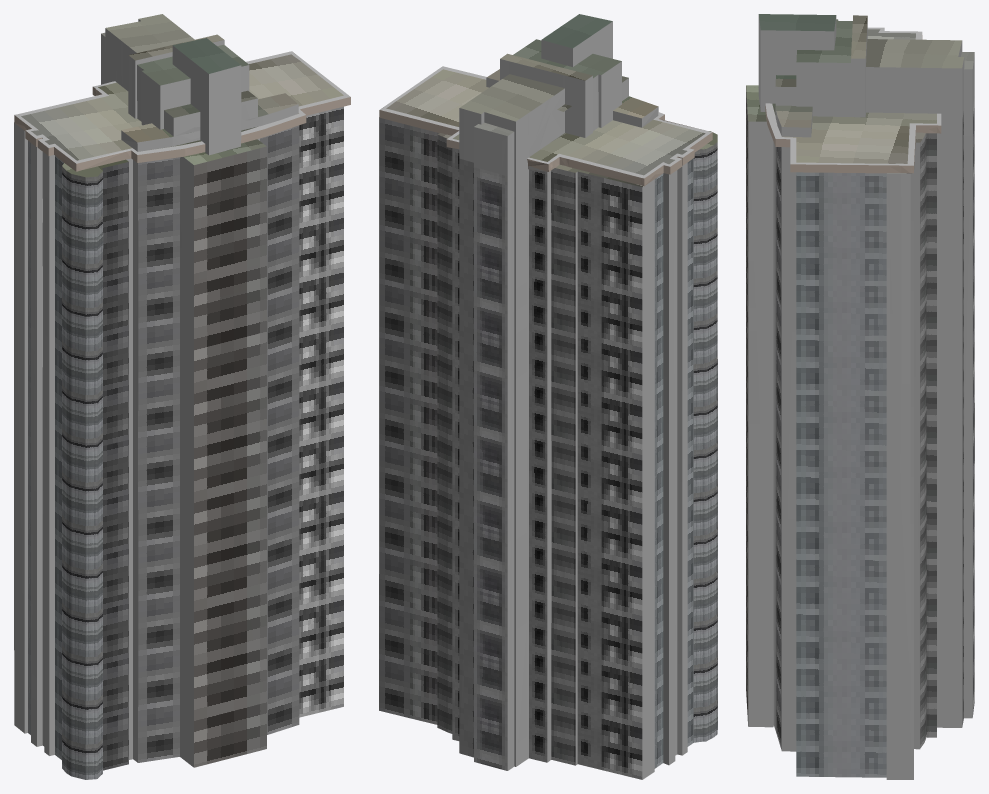
The model's file is HPDPKZ_madanglu588nong5hao.dae.
The picture shows the model from 3 angles, left to right: view 1: azimuth 30°, elevation 25°; view 2: azimuth 150°, elevation 25°; view 3: azimuth 270°, elevation 25°; orthographic projection. The views are drawn at different scales.
Parts seen in each view (by area): view 1: HPDPKZ_madanglu588nong5hao_louding, HPDPKZ_madanglu588nong5hao_6F_601, HPDPKZ_madanglu588nong5hao_25F_2501, HPDPKZ_madanglu588nong5hao_10F_1001, HPDPKZ_madanglu588nong5hao_21F_2101, HPDPKZ_madanglu588nong5hao_2F_201, HPDPKZ_madanglu588nong5hao_13F_1301, HPDPKZ_madanglu588nong5hao_17F_1701, HPDPKZ_madanglu588nong5hao_18F_1801, HPDPKZ_madanglu588nong5hao_28F_2801, HPDPKZ_madanglu588nong5hao_9F_901, HPDPKZ_madanglu588nong5hao_3F_301 (+93 smaller); view 2: HPDPKZ_madanglu588nong5hao_louding, HPDPKZ_madanglu588nong5hao_16F_1601, HPDPKZ_madanglu588nong5hao_6F_601, HPDPKZ_madanglu588nong5hao_15F_1501, HPDPKZ_madanglu588nong5hao_11F_1101, HPDPKZ_madanglu588nong5hao_17F_1701, HPDPKZ_madanglu588nong5hao_10F_1001, HPDPKZ_madanglu588nong5hao_5F_501, HPDPKZ_madanglu588nong5hao_8F_801, HPDPKZ_madanglu588nong5hao_9F_901, HPDPKZ_madanglu588nong5hao_21F_2101, HPDPKZ_madanglu588nong5hao_1F_101 (+67 smaller); view 3: HPDPKZ_madanglu588nong5hao_louding, HPDPKZ_madanglu588nong5hao_10F_1004, HPDPKZ_madanglu588nong5hao_12F_1204, HPDPKZ_madanglu588nong5hao_23F_2304, HPDPKZ_madanglu588nong5hao_2F_204, HPDPKZ_madanglu588nong5hao_16F_1604, HPDPKZ_madanglu588nong5hao_28F_2804, HPDPKZ_madanglu588nong5hao_1F_104, HPDPKZ_madanglu588nong5hao_8F_804, HPDPKZ_madanglu588nong5hao_18F_1804, HPDPKZ_madanglu588nong5hao_22F_2204, HPDPKZ_madanglu588nong5hao_13F_1304 (+67 smaller).
Boxes of the visible parts, left/top/right/bottom form: HPDPKZ_madanglu588nong5hao_louding: left=14, top=14, right=350, bottom=177; HPDPKZ_madanglu588nong5hao_6F_601: left=14, top=609, right=132, bottom=687; HPDPKZ_madanglu588nong5hao_25F_2501: left=14, top=215, right=132, bottom=293; HPDPKZ_madanglu588nong5hao_10F_1001: left=14, top=516, right=132, bottom=594; HPDPKZ_madanglu588nong5hao_21F_2101: left=14, top=285, right=132, bottom=362; HPDPKZ_madanglu588nong5hao_2F_201: left=14, top=679, right=132, bottom=756; HPDPKZ_madanglu588nong5hao_13F_1301: left=14, top=447, right=132, bottom=524; HPDPKZ_madanglu588nong5hao_17F_1701: left=14, top=377, right=132, bottom=455; HPDPKZ_madanglu588nong5hao_18F_1801: left=14, top=354, right=132, bottom=432; HPDPKZ_madanglu588nong5hao_28F_2801: left=14, top=146, right=132, bottom=223; HPDPKZ_madanglu588nong5hao_9F_901: left=14, top=540, right=132, bottom=617; HPDPKZ_madanglu588nong5hao_3F_301: left=14, top=656, right=132, bottom=733; HPDPKZ_madanglu588nong5hao_louding: left=379, top=14, right=717, bottom=187; HPDPKZ_madanglu588nong5hao_16F_1601: left=529, top=408, right=717, bottom=483; HPDPKZ_madanglu588nong5hao_6F_601: left=529, top=615, right=717, bottom=688; HPDPKZ_madanglu588nong5hao_15F_1501: left=529, top=431, right=717, bottom=506; HPDPKZ_madanglu588nong5hao_11F_1101: left=529, top=499, right=717, bottom=574; HPDPKZ_madanglu588nong5hao_17F_1701: left=529, top=386, right=717, bottom=460; HPDPKZ_madanglu588nong5hao_10F_1001: left=529, top=522, right=717, bottom=597; HPDPKZ_madanglu588nong5hao_5F_501: left=529, top=638, right=717, bottom=711; HPDPKZ_madanglu588nong5hao_8F_801: left=529, top=568, right=717, bottom=643; HPDPKZ_madanglu588nong5hao_9F_901: left=529, top=546, right=717, bottom=620; HPDPKZ_madanglu588nong5hao_21F_2101: left=529, top=301, right=717, bottom=369; HPDPKZ_madanglu588nong5hao_1F_101: left=529, top=707, right=717, bottom=779; HPDPKZ_madanglu588nong5hao_louding: left=746, top=14, right=974, bottom=173; HPDPKZ_madanglu588nong5hao_10F_1004: left=796, top=528, right=936, bottom=593; HPDPKZ_madanglu588nong5hao_12F_1204: left=796, top=481, right=936, bottom=546; HPDPKZ_madanglu588nong5hao_23F_2304: left=796, top=248, right=936, bottom=314; HPDPKZ_madanglu588nong5hao_2F_204: left=796, top=691, right=936, bottom=756; HPDPKZ_madanglu588nong5hao_16F_1604: left=796, top=411, right=936, bottom=477; HPDPKZ_madanglu588nong5hao_28F_2804: left=796, top=155, right=936, bottom=220; HPDPKZ_madanglu588nong5hao_1F_104: left=796, top=714, right=936, bottom=779; HPDPKZ_madanglu588nong5hao_8F_804: left=796, top=574, right=936, bottom=640; HPDPKZ_madanglu588nong5hao_18F_1804: left=796, top=365, right=936, bottom=430; HPDPKZ_madanglu588nong5hao_22F_2204: left=796, top=272, right=936, bottom=337; HPDPKZ_madanglu588nong5hao_13F_1304: left=796, top=458, right=936, bottom=523.
Bounding box in the file's own units: 39.16 × 90.35 × 27.25.
25 materials, 25 textured.
